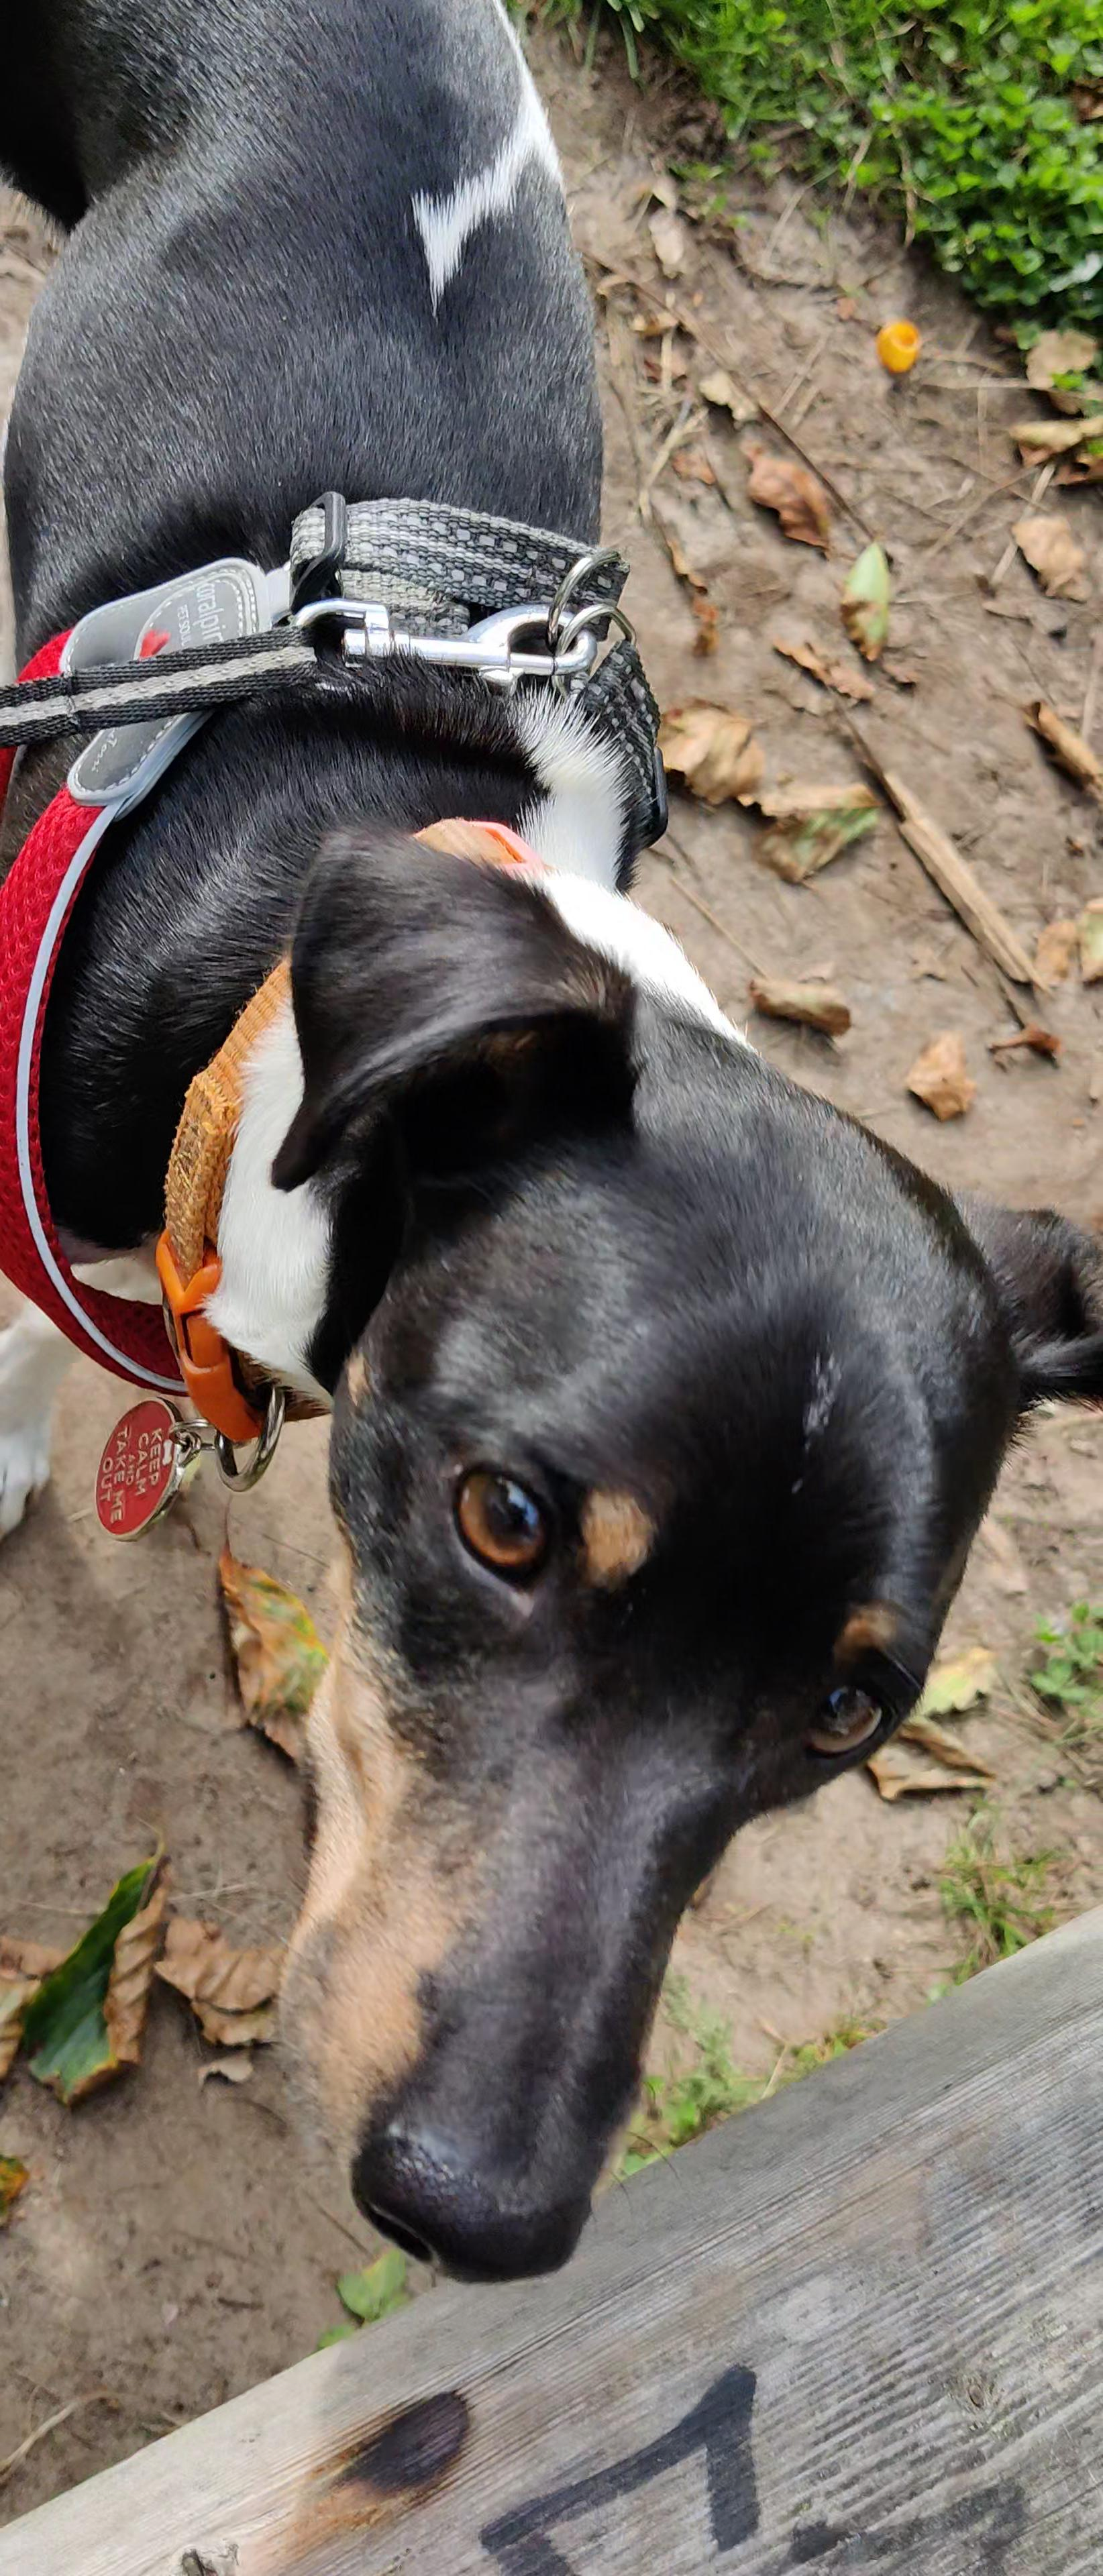Dog: (0, 0, 1103, 2313)
